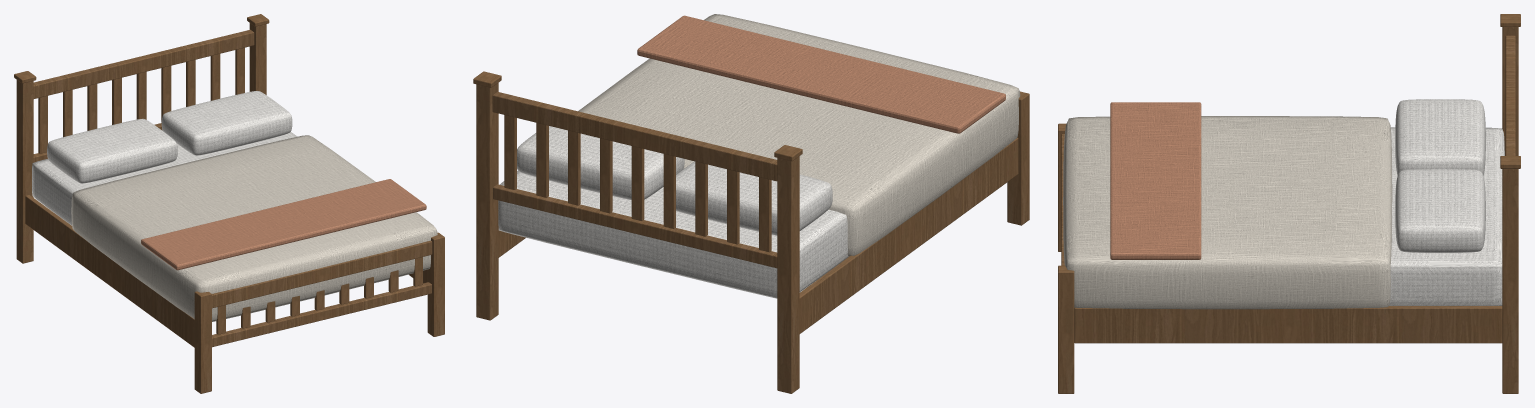
The model's file is oak_mission_bed_queen_procedural.gltf.
3 views of the same model, side by side, from view 1: azimuth 30°, elevation 25°; view 2: azimuth 150°, elevation 25°; view 3: azimuth 270°, elevation 25° (orthographic). The views are drawn at different scales.
Visible parts, largest first — view 1: duvet, throw, pillow, pillow.001, side_rail, rail_top, rail_top.001, mattress, head_post, rail_low.001, foot_post, foot_post.001 (+10 smaller); view 2: duvet, throw, mattress, side_rail, rail_top, head_post, head_post.001, pillow.001, pillow, rail_low, foot_post, slat.004 (+8 smaller); view 3: duvet, side_rail.001, throw, mattress, pillow.001, pillow, head_post.001, foot_post.001, rail_top, head_post, foot_post, rail_top.001.
Boxes of the visible parts, x1,y1,x2,y2 form: duvet: [71, 135, 437, 321]; throw: [141, 179, 426, 270]; pillow: [47, 118, 177, 183]; pillow.001: [161, 91, 292, 155]; side_rail: [25, 195, 194, 347]; rail_top: [33, 29, 254, 98]; rail_top.001: [212, 240, 432, 308]; mattress: [32, 130, 296, 225]; head_post: [16, 80, 33, 263]; rail_low.001: [212, 282, 431, 347]; foot_post: [194, 291, 211, 393]; foot_post.001: [427, 232, 444, 336]; duvet: [578, 14, 1020, 256]; throw: [637, 15, 1005, 133]; mattress: [498, 171, 847, 298]; side_rail: [799, 137, 1018, 333]; rail_top: [492, 92, 777, 181]; head_post: [777, 156, 799, 393]; head_post.001: [476, 83, 498, 320]; pillow.001: [517, 126, 684, 200]; pillow: [676, 161, 832, 235]; rail_low: [493, 184, 777, 268]; foot_post: [1007, 91, 1029, 225]; slat.004: [631, 146, 644, 220]; duvet: [1063, 116, 1392, 309]; side_rail.001: [1074, 306, 1502, 343]; throw: [1110, 102, 1201, 259]; mattress: [1389, 127, 1504, 305]; pillow.001: [1395, 169, 1485, 252]; pillow: [1395, 99, 1485, 175]; head_post.001: [1502, 169, 1518, 393]; foot_post.001: [1058, 265, 1074, 393]; rail_top: [1505, 35, 1515, 155]; head_post: [1502, 27, 1518, 155]; foot_post: [1058, 123, 1066, 251]; rail_top.001: [1061, 134, 1064, 265].
Bounding box in the file's own units: 1.66 × 1.17 × 2.13.
Materials: 4 (4 with a texture image).
